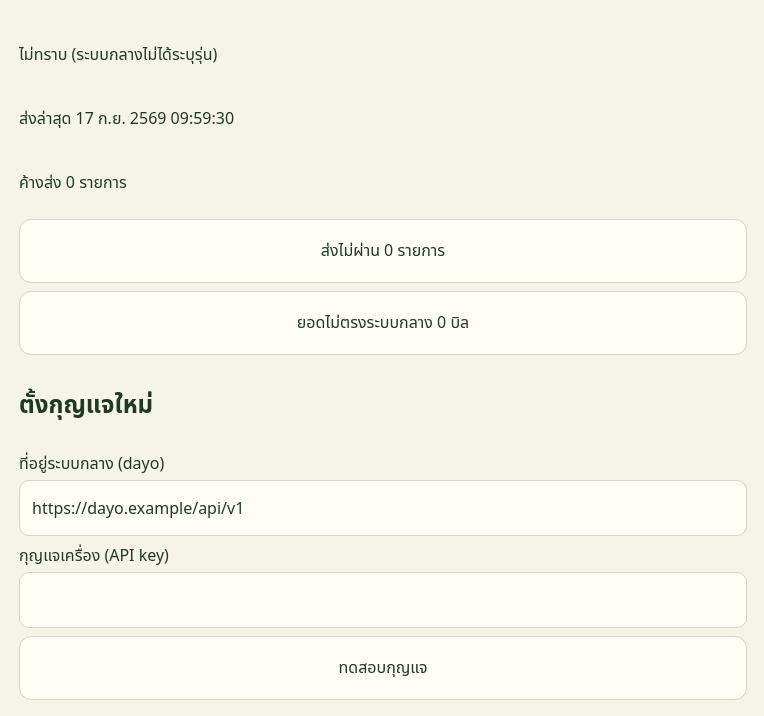
SystemStatusScreen (spec §4.3, §6.7, §10.5, §7 ข้อ 1 · D80 — every role reads it) › shows the "ตั้งกุญแจใหม่" section to the owner only, and lets them probe a new key
The width and height of the screenshot is (764, 716).
(page scrolled)
Expected: the element with test id "status-replace-key" is shown, [19,367,747,700]
In the field with test id "setup-api-key": point(383, 600) [19,572,747,628], type "dayo_new_key_0123456789abcdef0123456789abcdef01234567"
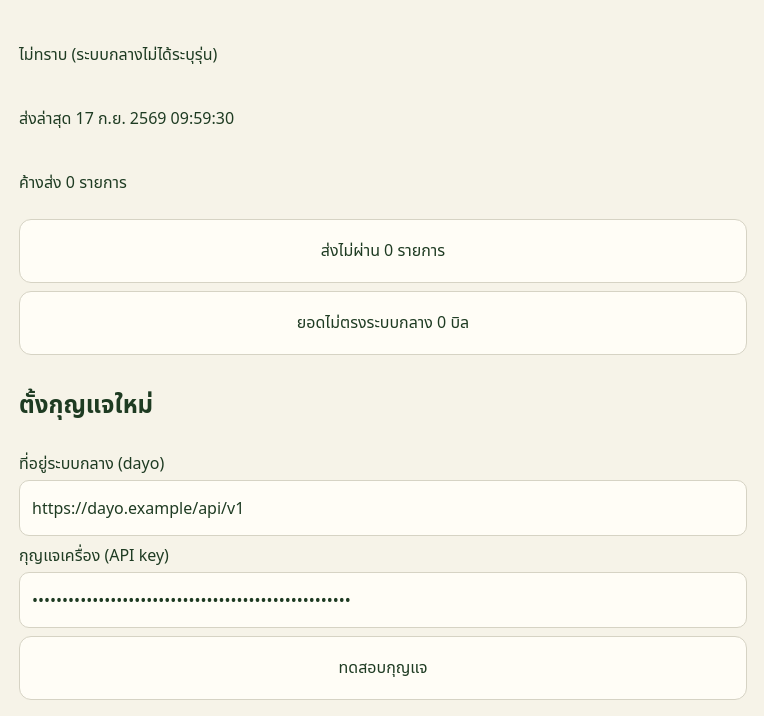
Click the button with test id "setup-probe": point(383, 668) [19,636,747,700]
(page scrolled)
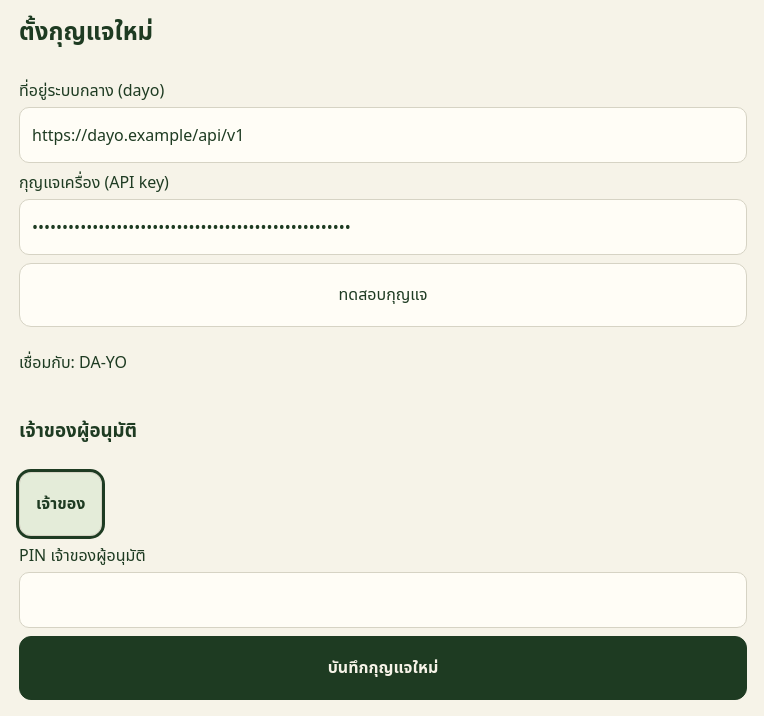
Result: the field with test id "status-replace-key-pin" is shown at [19,572,747,628]
